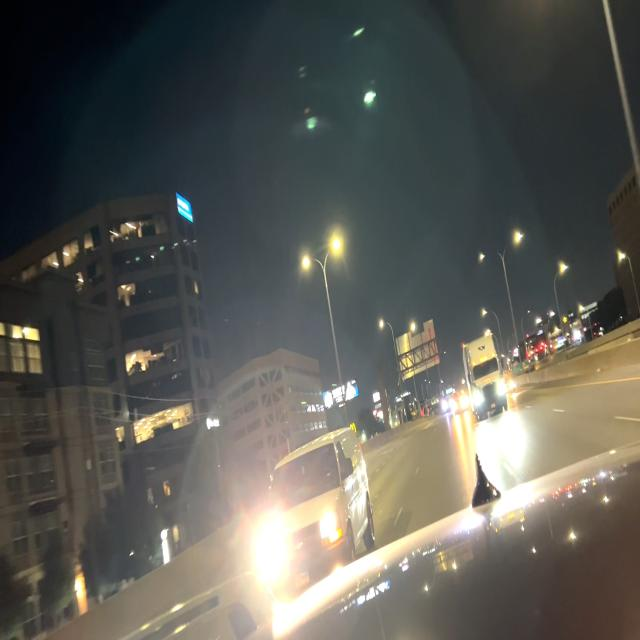back-of-sign: (395, 317, 440, 381)
